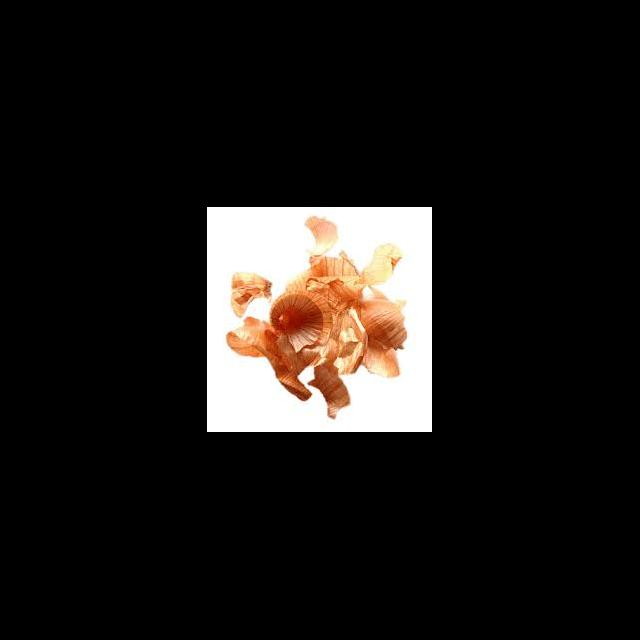food_waste: (227, 217, 402, 408)
